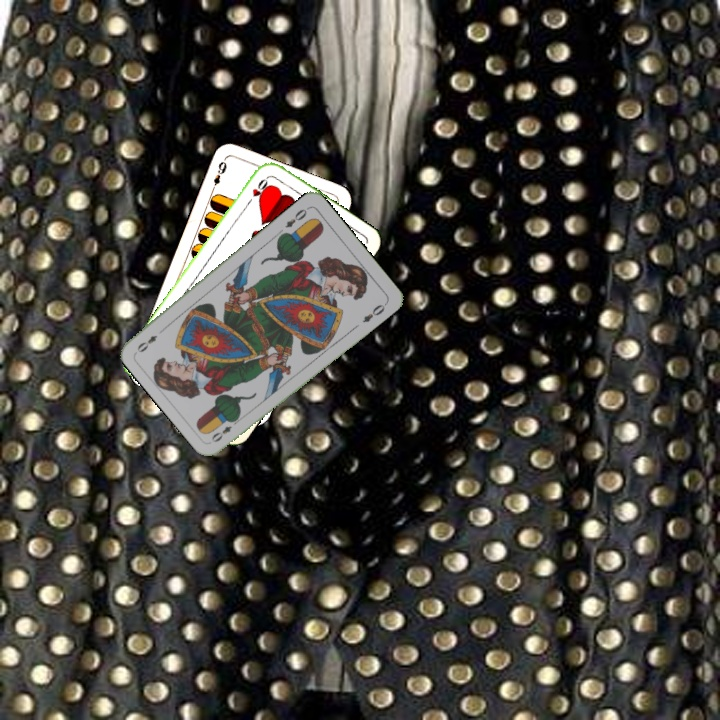E9: (207, 156, 229, 195)
EO: (207, 415, 242, 445), (281, 203, 311, 231)
HO: (243, 173, 271, 208)
